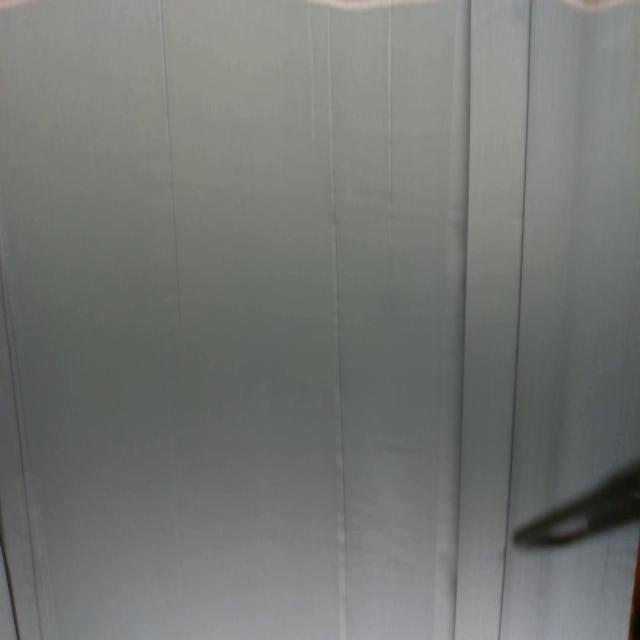crease: (0, 248, 44, 638), (450, 0, 474, 640), (326, 2, 347, 638), (508, 0, 534, 510), (157, 0, 183, 318), (0, 527, 22, 639), (384, 0, 394, 245), (497, 511, 510, 640), (308, 4, 318, 149)
